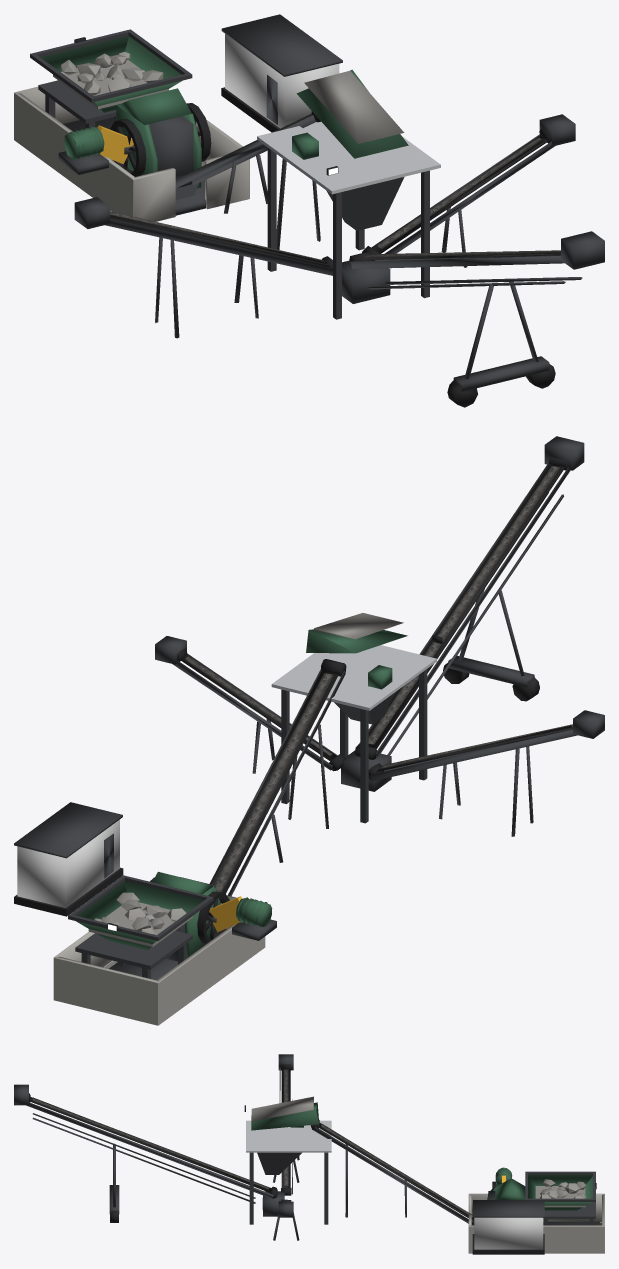
File: crusher_plant_LOD1.glb
3 renders of one model, top to bottom at view 1: azimuth 30°, elevation 25°; view 2: azimuth 150°, elevation 25°; view 3: azimuth 270°, elevation 25°, orthographic. The views are drawn at different scales.
Visible parts, largest first — view 1: Body_LOD1, ScreenBox_LOD1, FlywheelRight_LOD1, FlywheelLeft_LOD1; view 2: Body_LOD1, ScreenBox_LOD1, FlywheelRight_LOD1; view 3: Body_LOD1, ScreenBox_LOD1.
Boxes of the visible parts, x1,y1,x2,y2 form: Body_LOD1: (14, 14, 604, 407); ScreenBox_LOD1: (296, 69, 408, 158); FlywheelRight_LOD1: (110, 119, 146, 176); FlywheelLeft_LOD1: (186, 103, 211, 161); Body_LOD1: (14, 436, 604, 1025); ScreenBox_LOD1: (306, 613, 407, 653); FlywheelRight_LOD1: (197, 891, 229, 943); Body_LOD1: (14, 1054, 604, 1254); ScreenBox_LOD1: (251, 1096, 319, 1130).
Size of the model in its own units: 32.6 by 16.63 by 59.86.
11 materials, 1 textured.
